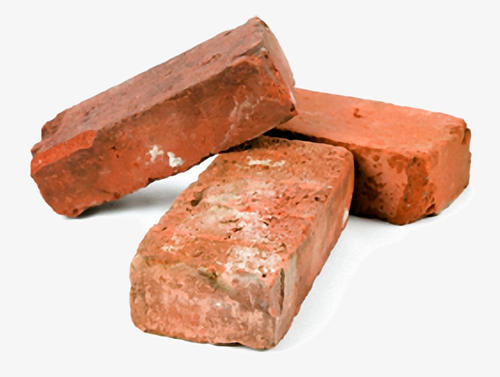brick: (27, 12, 299, 224), (128, 130, 362, 353), (263, 81, 474, 229)
